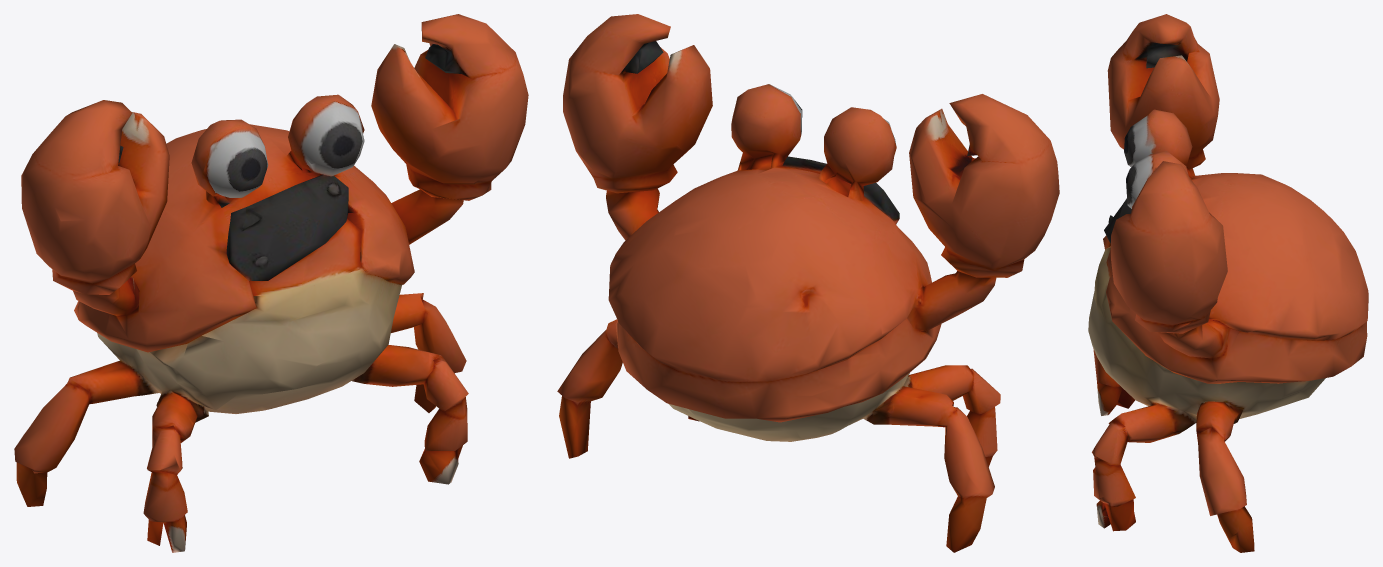
The model's file is tripo_convert_d50905f5-b4bb-4c45-81b1-187b56e5c165.fbx.
3 renders of one model, left to right at view 1: azimuth 30°, elevation 25°; view 2: azimuth 150°, elevation 25°; view 3: azimuth 270°, elevation 25°, orthographic. The views are drawn at different scales.
Parts seen in each view (by area): view 1: tripo_node_d50905f5; view 2: tripo_node_d50905f5; view 3: tripo_node_d50905f5.
Part boxes in pixels (x1,y1,x2,y2): tripo_node_d50905f5: [14, 14, 528, 552]; tripo_node_d50905f5: [557, 14, 1059, 552]; tripo_node_d50905f5: [1088, 14, 1368, 552].
Bounding box in the file's own units: 100 × 56.81 × 85.03.
Materials: 1 (1 with a texture image).
